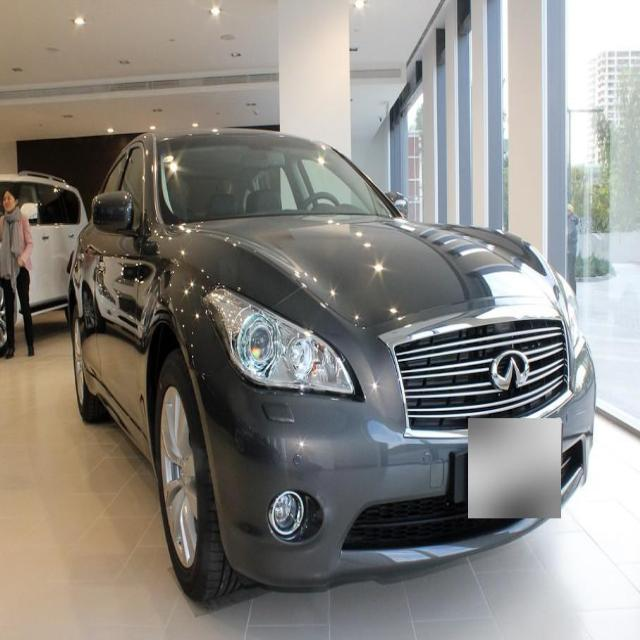front_bumper: (181, 338, 598, 591)
front_glass: (156, 131, 400, 228)
front_left_side_mirror: (385, 185, 411, 220)
front_right_side_light: (198, 281, 362, 405)
front_right_side_mirror: (91, 190, 136, 240)
wheel: (154, 350, 263, 597), (71, 313, 108, 423)
